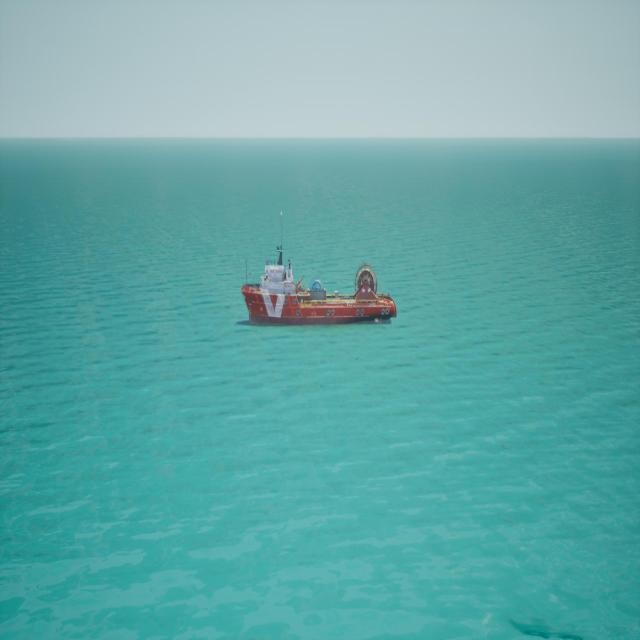tug boat: (239, 215, 397, 330)
